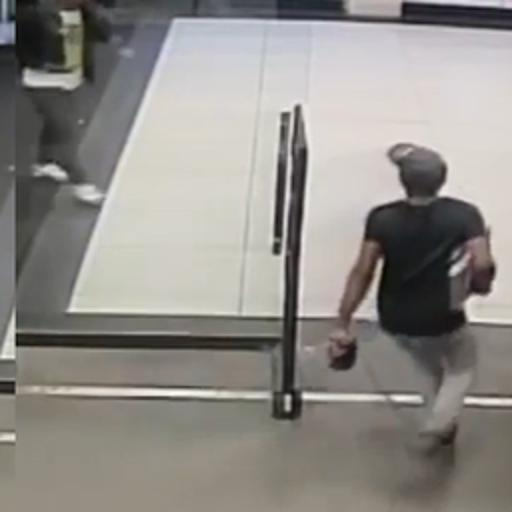Humans: (330, 111, 505, 493)
